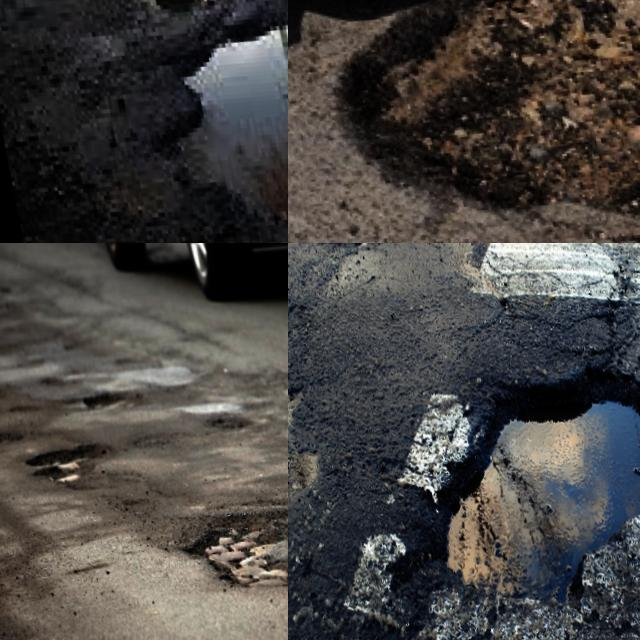Potholes: (320, 312, 640, 640), (288, 0, 640, 243), (126, 0, 288, 243), (433, 243, 640, 381), (163, 455, 288, 640), (2, 414, 146, 528), (16, 0, 255, 57), (167, 375, 272, 448), (288, 305, 327, 485), (75, 357, 153, 435)
